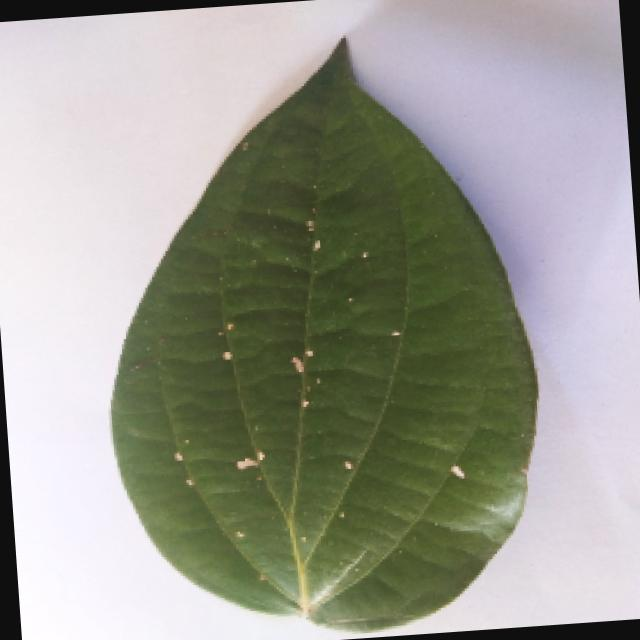pollu-disease: (86, 30, 556, 640)
